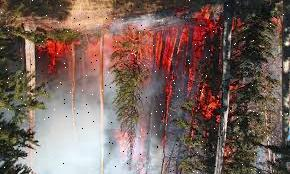fire: (151, 5, 222, 139), (34, 33, 74, 80)
